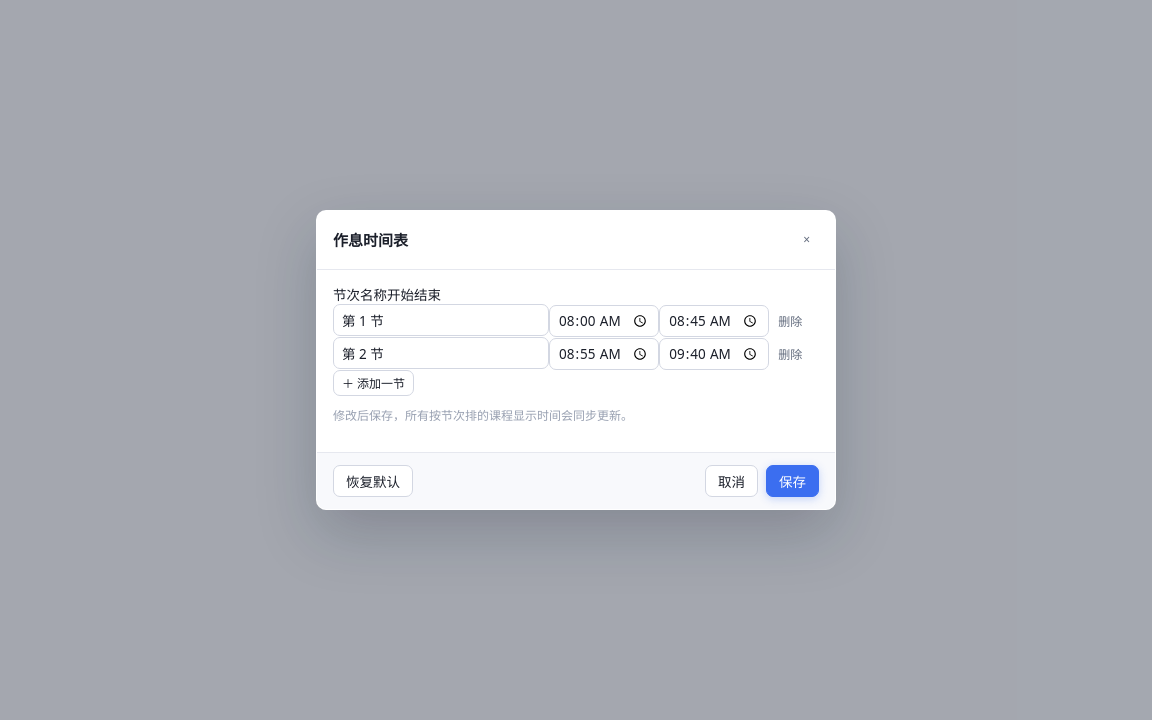
it: 作息时间表弹窗 › 可以增加与删除节次
This screenshot has width=1152, height=720.
Click the button "＋ 添加一节" at (374, 383), box [333,370,414,396]
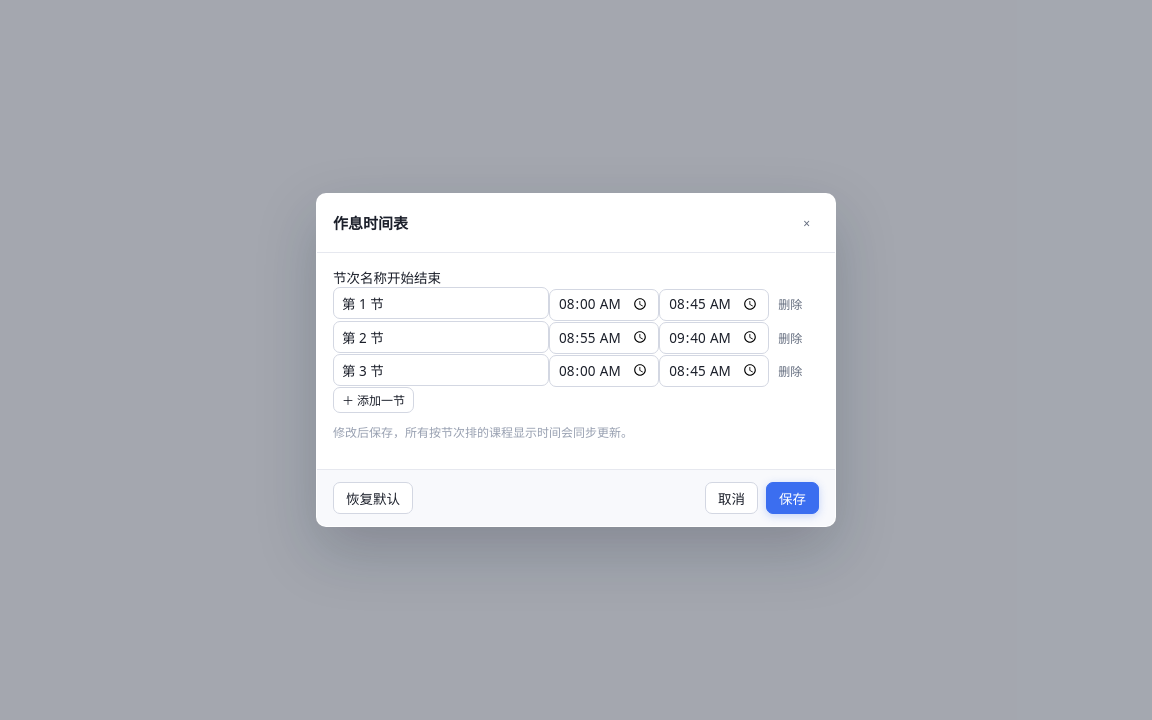
Result: the element with test id "period-row-2" is shown at [333,354,819,386]
Click the button with aria-label "删除第 3 行" at (790, 370), box [769,358,811,384]
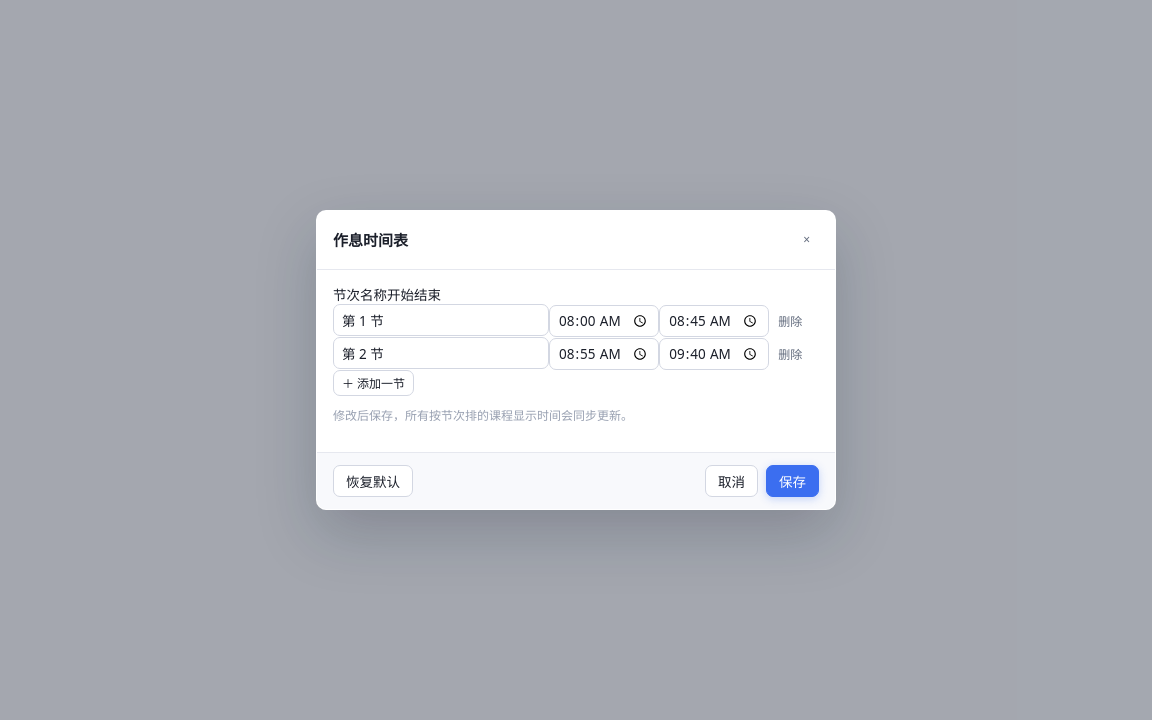
Result: the element with test id "period-row-2" is gone
